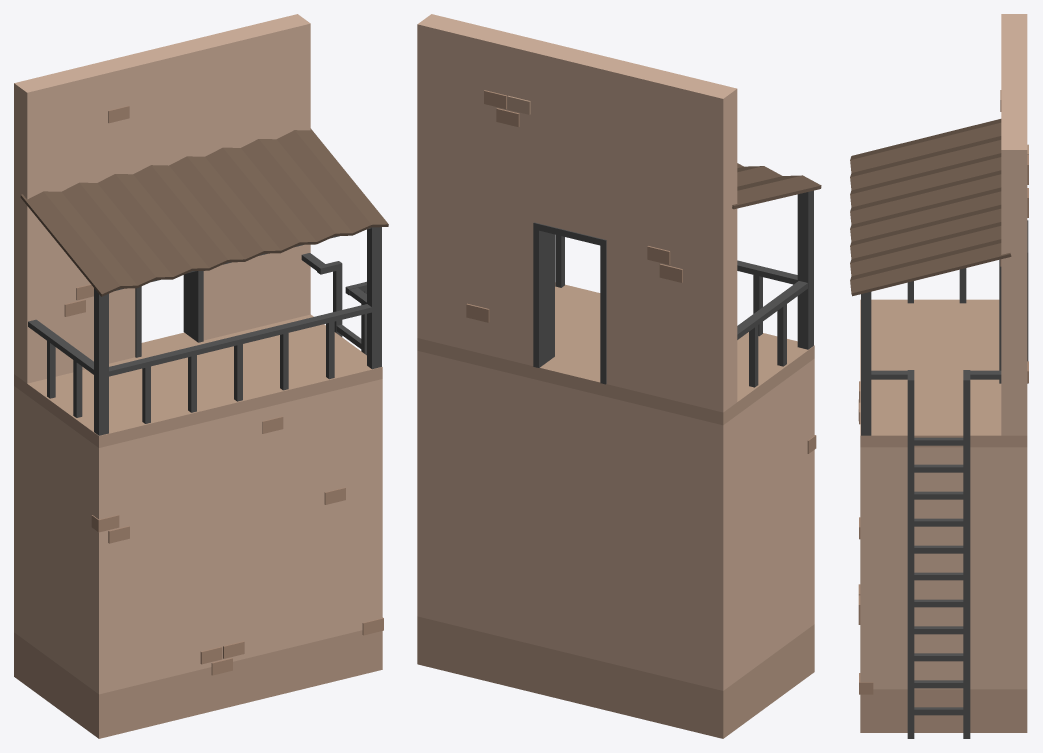
Rendered from Wall_05.fbx.
3 renders of one model, left to right at view 1: azimuth 30°, elevation 25°; view 2: azimuth 150°, elevation 25°; view 3: azimuth 270°, elevation 25°, orthographic. The views are drawn at different scales.
Parts seen in each view (by area): view 1: Wall_05; view 2: Wall_05; view 3: Wall_05.
Boxes of the visible parts, box(x1,y1,x2,y2) form: Wall_05: box(14, 14, 388, 738); Wall_05: box(417, 14, 821, 738); Wall_05: box(850, 14, 1028, 738).
Size of the model in its own units: 525 by 1000 by 278.
